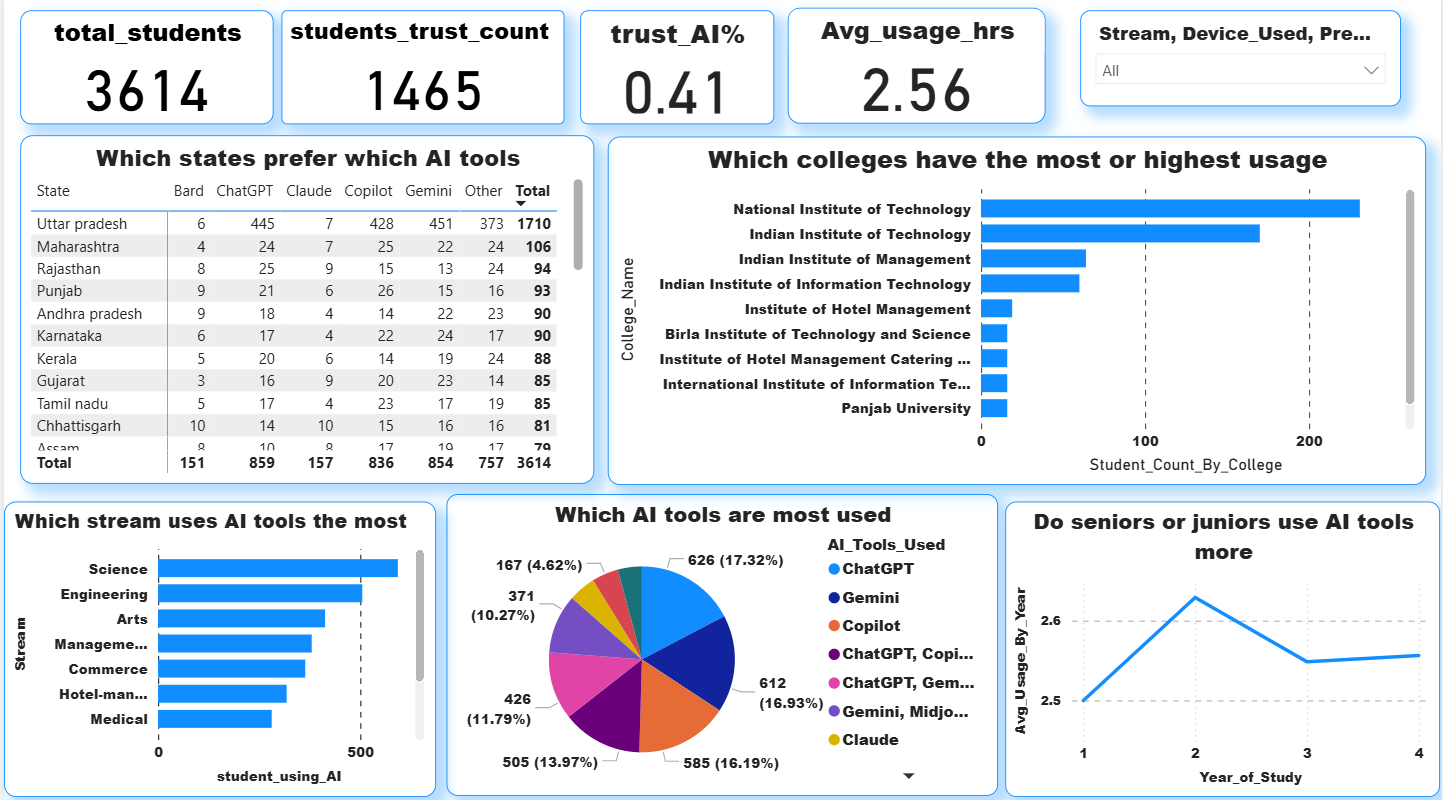

What the dashboard file says about the page in this screenshot:
{"tool":"powerbi","page":{"name":"Page 3","canvas":[1280,720],"ordinal":2},"visuals":[{"type":"card","title":"total_students","fields":{"Values":["college student.total_students"]},"box":[13.9,13.9,225.8,101.7],"z":0},{"type":"card","title":"students_trust_count","fields":{"Values":["college student.Trust_Count"]},"box":[246.7,13.9,252.3,101.7],"z":1000},{"type":"card","title":"trust_AI%","fields":{"Values":["college student.Percent_Trust_AI"]},"box":[512.9,14.3,172.9,101.4],"z":2000},{"type":"card","title":"Avg_usage_hrs","fields":{"Values":["college student.Avg_Usage_Hours"]},"box":[698.3,12.5,230,103.1],"z":3000},{"type":"slicer","fields":{"Values":["college student.Stream","college student.Device_Used","college student.Preferred_AI_Tool"]},"box":[958.6,14.3,285.7,85.7],"z":4000},{"type":"pieChart","title":"Which AI tools are most used","fields":{"Category":["college student.AI_Tools_Used"],"Y":["college student.Used_Tool_Count"]},"box":[394.3,445.7,491.4,268.6],"z":5000},{"type":"barChart","title":"Which colleges have the most or highest usage","fields":{"Y":["college student.Student_Count_By_College"],"Category":["college student.College_Name"]},"box":[538,126.8,728.9,310.8],"z":6000},{"type":"lineChart","title":"Do seniors or juniors use AI tools more","fields":{"Category":["college student.Year_of_Study"],"Y":["college student.Avg_Usage_By_Year"]},"box":[892,451.6,387.5,263.4],"z":7000},{"type":"clusteredBarChart","title":"Which stream uses AI tools the most","fields":{"Category":["college student.Stream"],"Y":["college student.student_using_AI"]},"box":[0,451.6,384.7,263.4],"z":8000},{"type":"pivotTable","title":"Which states prefer which AI tools","fields":{"Rows":["college student.State"],"Values":["college student.prefered_tool_count"],"Columns":["college student.Preferred_AI_Tool"]},"box":[13.9,125.4,511.5,310.8],"z":9000}]}

Visuals, with their boxes in screenshot pixels (x1, y1, x2, y2), scaled from the page's 1280x720 canvas onto the 1443x800 screenshot:
"total_students" card: crop(16, 15, 270, 128)
"students_trust_count" card: crop(278, 15, 563, 128)
"trust_AI%" card: crop(578, 16, 773, 129)
"Avg_usage_hrs" card: crop(787, 14, 1047, 128)
slicer - college student.Stream x college student.Device_Used: crop(1081, 16, 1403, 111)
"Which AI tools are most used" pieChart: crop(445, 495, 998, 794)
"Which colleges have the most or highest usage" barChart: crop(607, 141, 1428, 486)
"Do seniors or juniors use AI tools more" lineChart: crop(1006, 502, 1442, 794)
"Which stream uses AI tools the most" clusteredBarChart: crop(0, 502, 434, 794)
"Which states prefer which AI tools" pivotTable: crop(16, 139, 592, 485)
